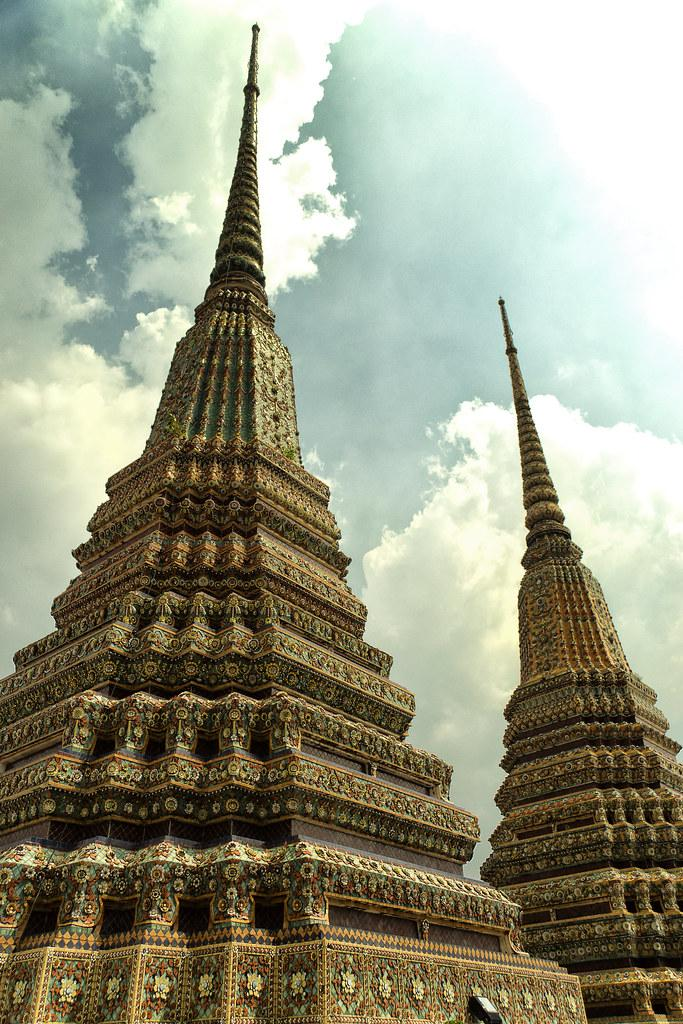temple: (1, 21, 591, 1023), (478, 294, 682, 1023)
